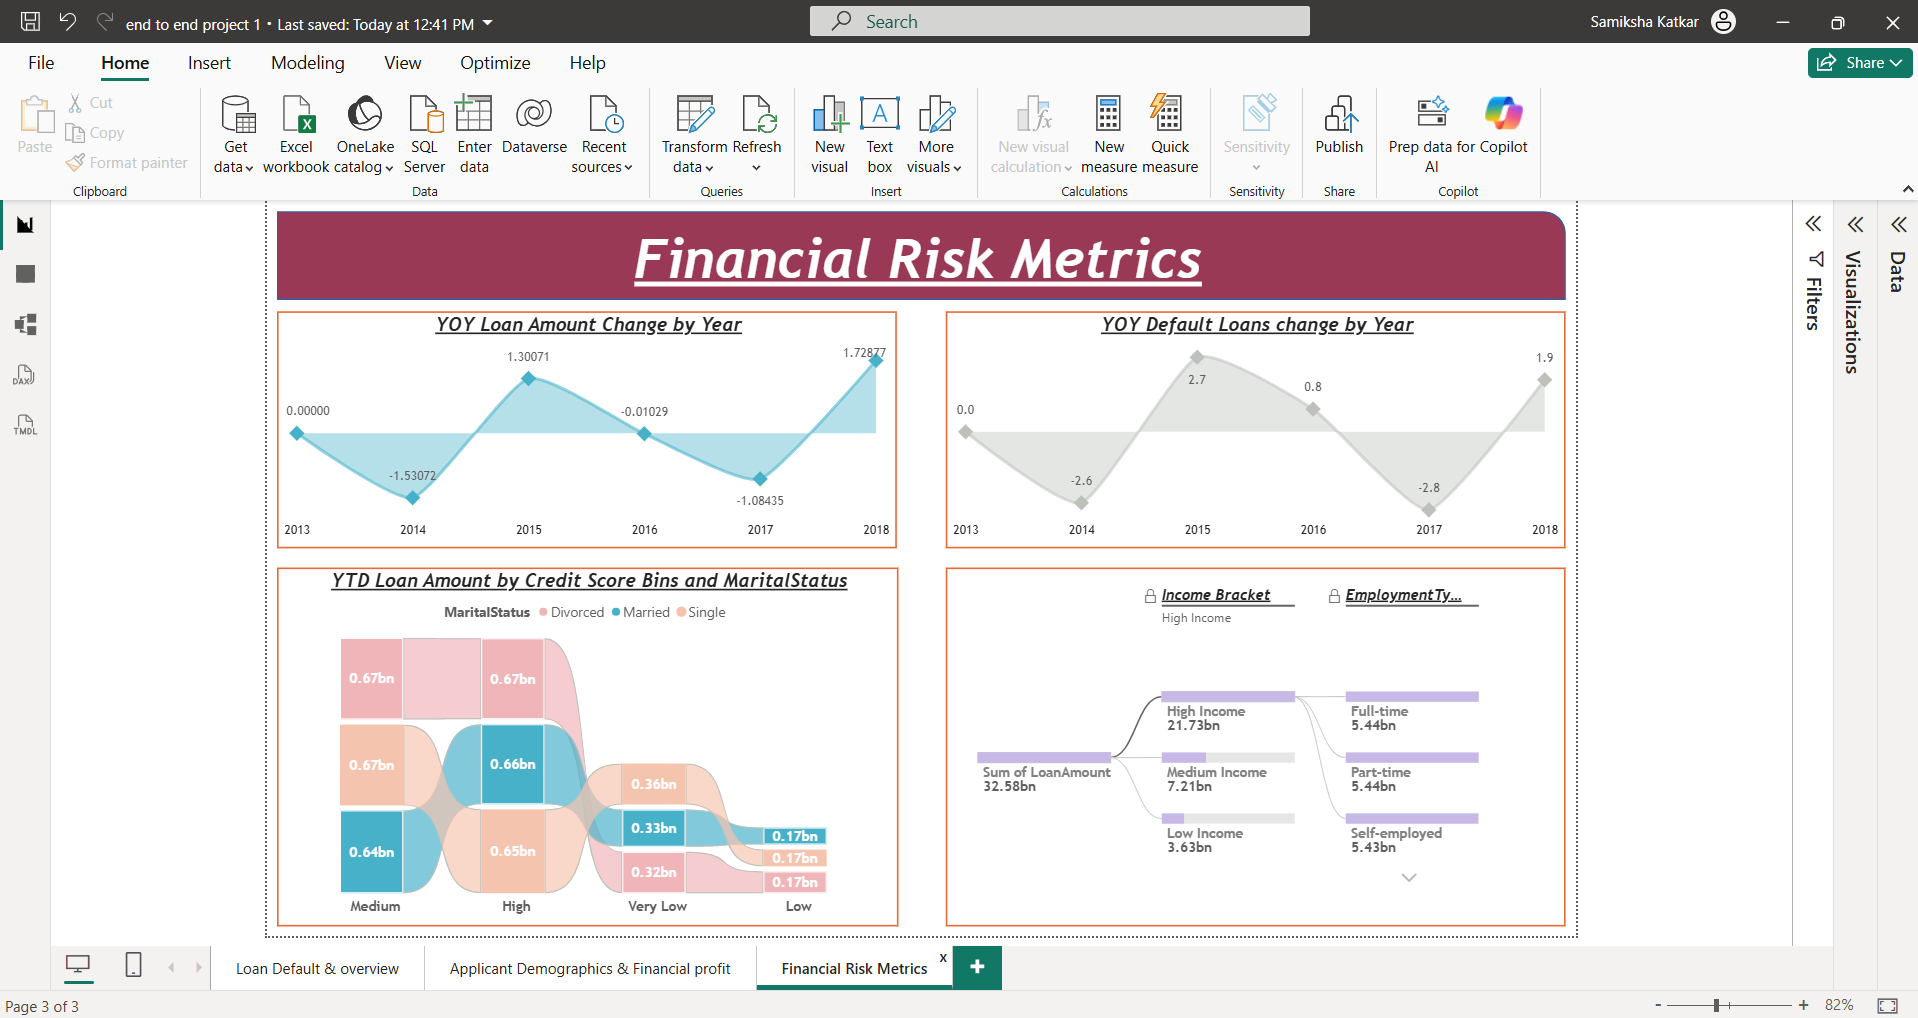

Layout of this report page (visuals, bound fields, positions):
{"tool":"powerbi","page":{"name":"Financial Risk Metrics","canvas":[1280,720],"ordinal":2},"visuals":[{"type":"shape","box":[9.8,11,1260.7,86.8],"z":0},{"type":"lineChart","fields":{"Category":["Loan_default.Year"],"Y":["Measures Table 3.YOY Loan Amount Change"]},"box":[9.8,108.8,606.5,232.3],"z":1000},{"type":"lineChart","fields":{"Category":["Loan_default.Year"],"Y":["Measures Table 3.YOY Default Loans change"]},"box":[664,108.8,606.5,232.3],"z":1001},{"type":"ribbonChart","fields":{"Category":["Loan_default.Credit Score Bins"],"Y":["Measures Table 3.YTD Loan Amount"],"Series":["Loan_default.MaritalStatus"]},"box":[9.8,359.5,607.7,351],"z":1002},{"type":"decompositionTreeVisual","fields":{"Analyze":["Sum(Loan_default.LoanAmount)"],"ExplainBy":["Loan_default.Income Bracket","Loan_default.EmploymentType"]},"box":[664,359.5,606.5,351],"z":1003}]}

Visuals, with their boxes on the page's 1280x720 design canvas (x1, y1, x2, y2). These are canvas units, not pixel positions in the 1918x1018 screenshot, which may show the page scaled, cropped or inside an application window:
shape: bbox=[10, 11, 1270, 98]
lineChart - Loan_default.Year x Measures Table 3.YOY Loan Amount Change: bbox=[10, 109, 616, 341]
lineChart - Loan_default.Year x Measures Table 3.YOY Default Loans change: bbox=[664, 109, 1270, 341]
ribbonChart - Loan_default.Credit Score Bins x Measures Table 3.YTD Loan Amount: bbox=[10, 360, 618, 710]
decompositionTreeVisual - Sum(Loan_default.LoanAmount) x Loan_default.Income Bracket: bbox=[664, 360, 1270, 710]
